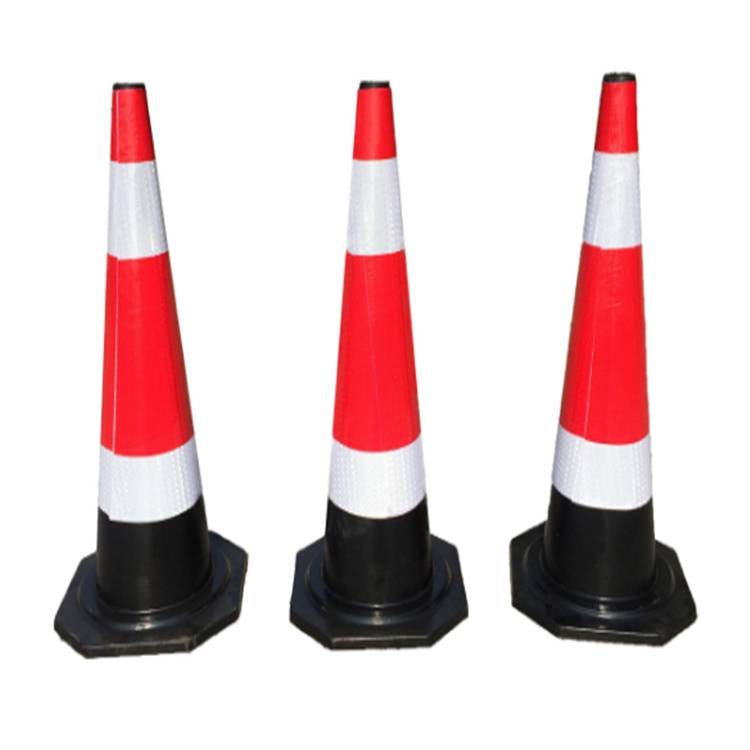traffic_cone: (491, 69, 713, 669), (40, 75, 263, 670), (279, 75, 473, 663)
